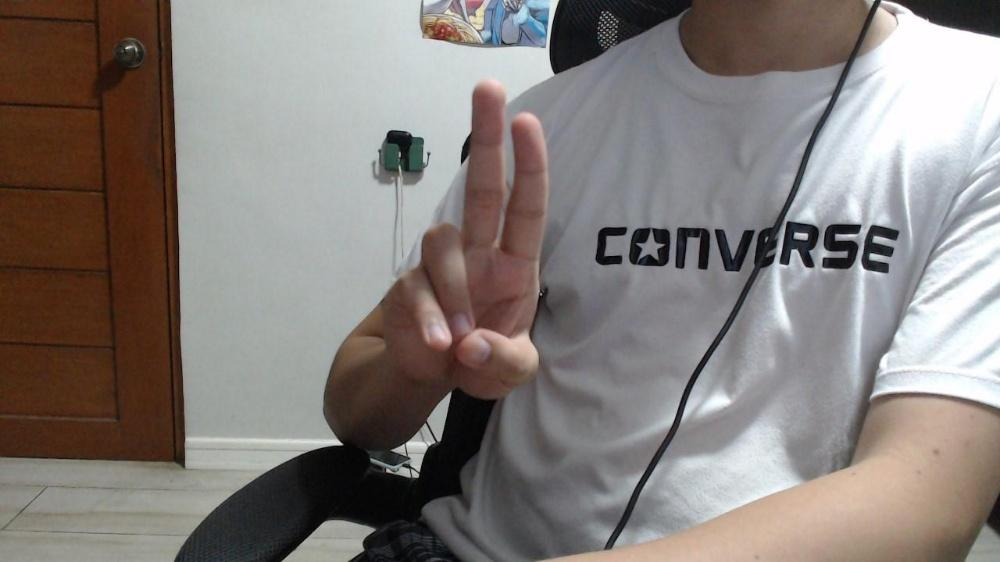u: (386, 81, 547, 399)
